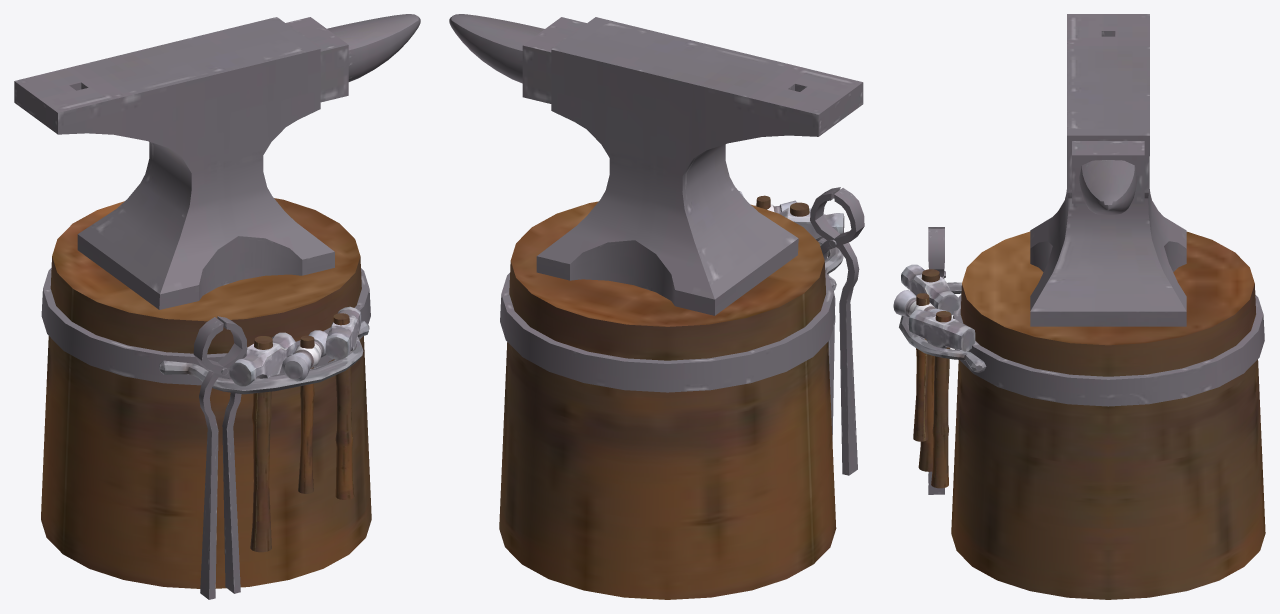
Rendered from Anvil_Log.glb.
3 renders of one model, left to right at view 1: azimuth 30°, elevation 25°; view 2: azimuth 150°, elevation 25°; view 3: azimuth 270°, elevation 25°, orthographic. The views are drawn at different scales.
Visible parts, largest first — view 1: Anvil_Log; view 2: Anvil_Log; view 3: Anvil_Log.
Boxes of the visible parts, left/top/right/bottom form: Anvil_Log: left=14, top=14, right=420, bottom=599; Anvil_Log: left=449, top=14, right=864, bottom=599; Anvil_Log: left=893, top=14, right=1265, bottom=599.
Size of the model in its own units: 0.9292 by 1.07 by 0.8214.
Materials: 3 (3 with a texture image).
